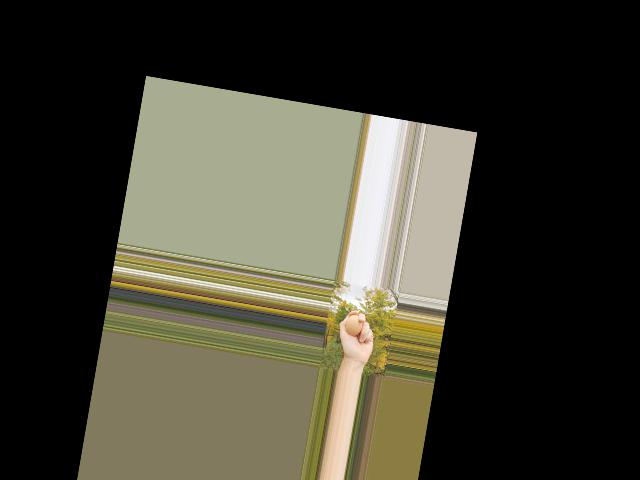egg: (344, 313, 364, 336)
